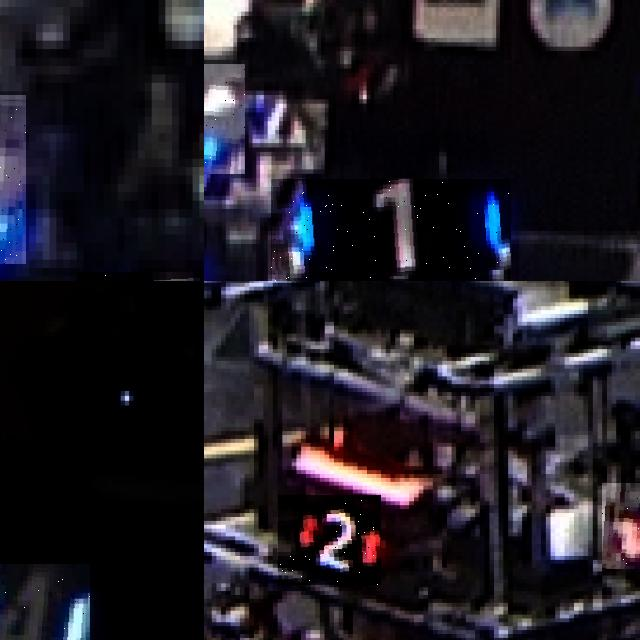B1: (271, 178, 511, 281), (204, 64, 244, 173)
B4: (0, 563, 89, 640)
R2: (278, 496, 381, 586), (602, 483, 640, 569)
